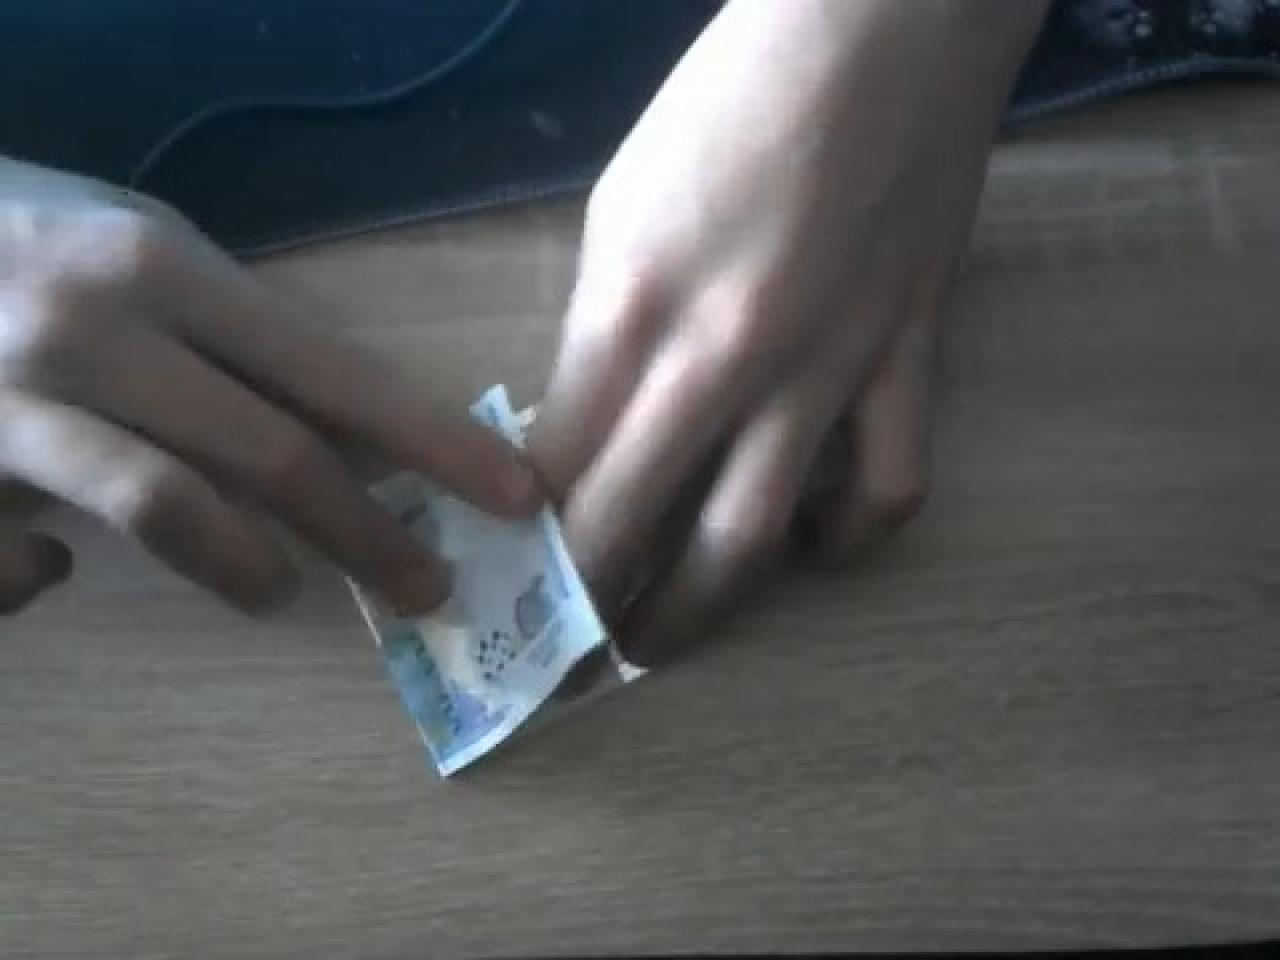20leva: (350, 464, 627, 776)
